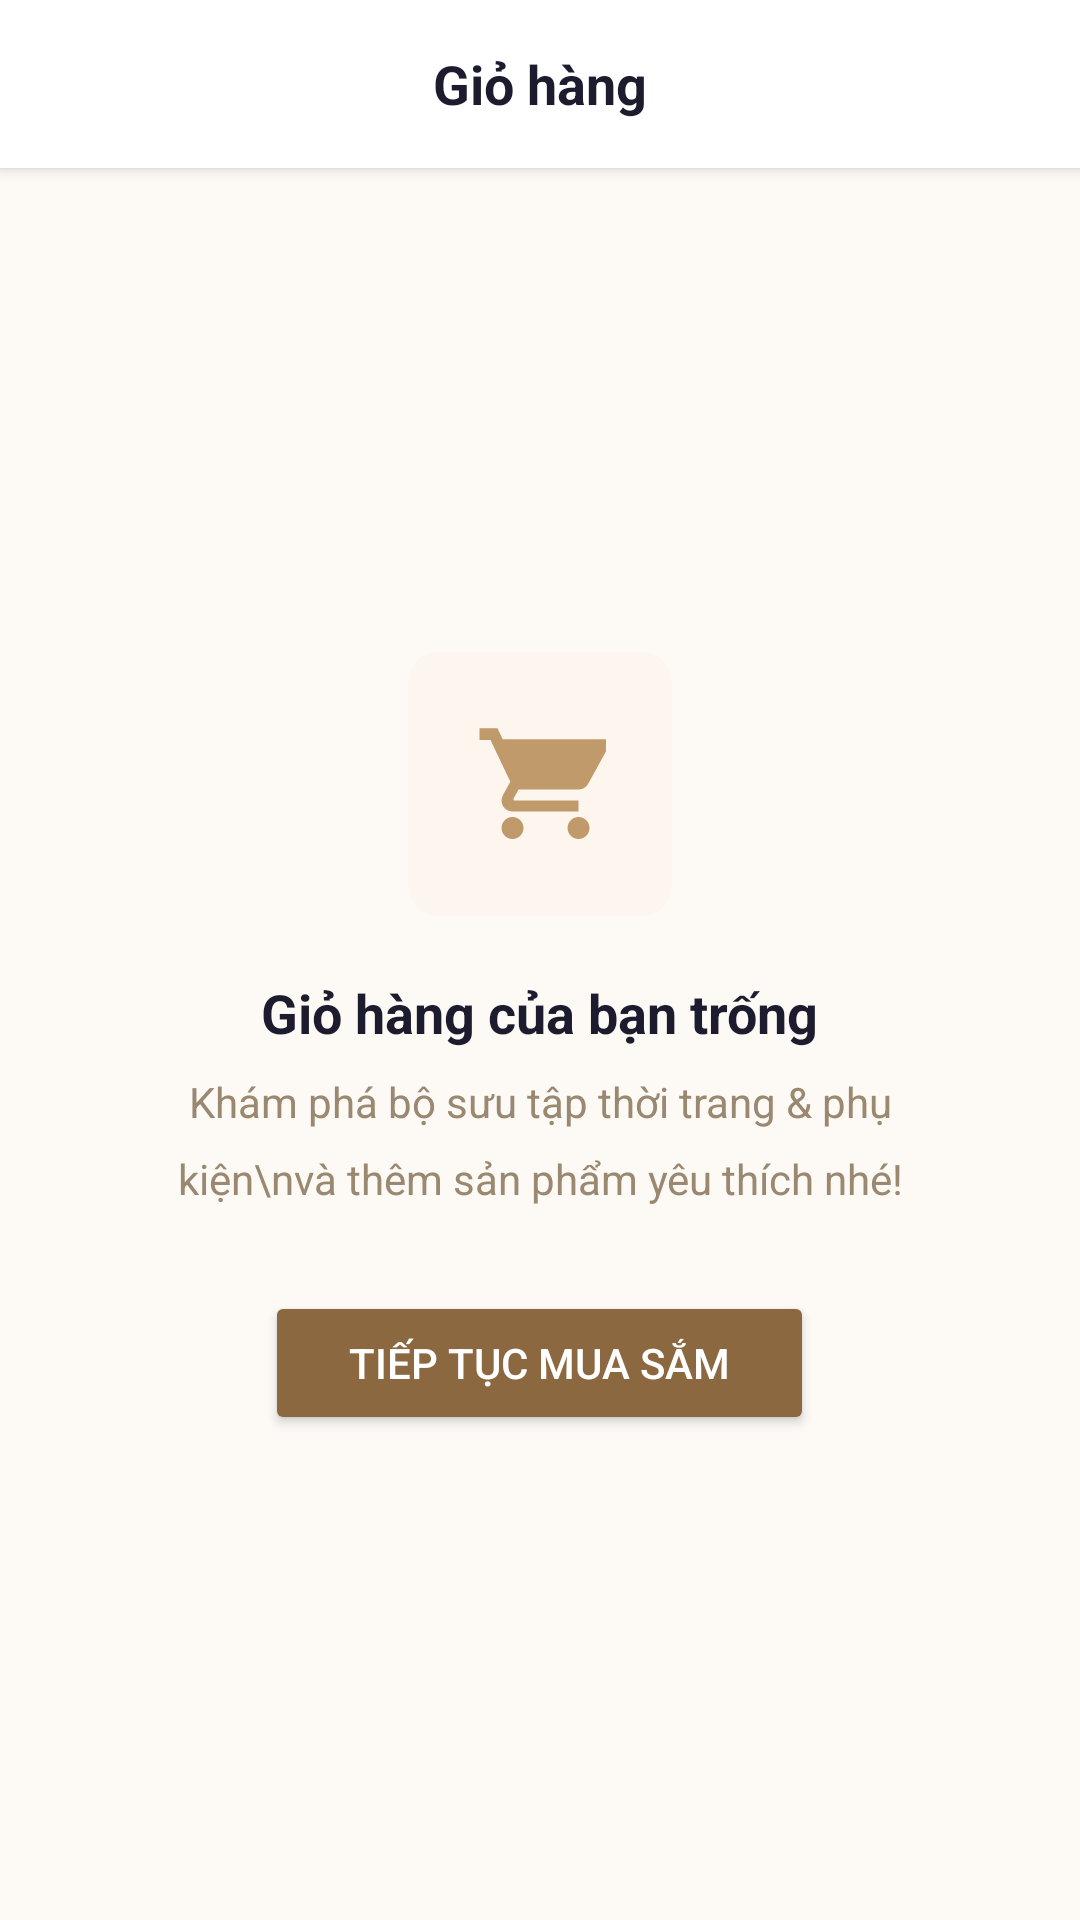

Icon click points for this 1080x1920 phone screenshot, format (x,y):
cart: (542,783)
